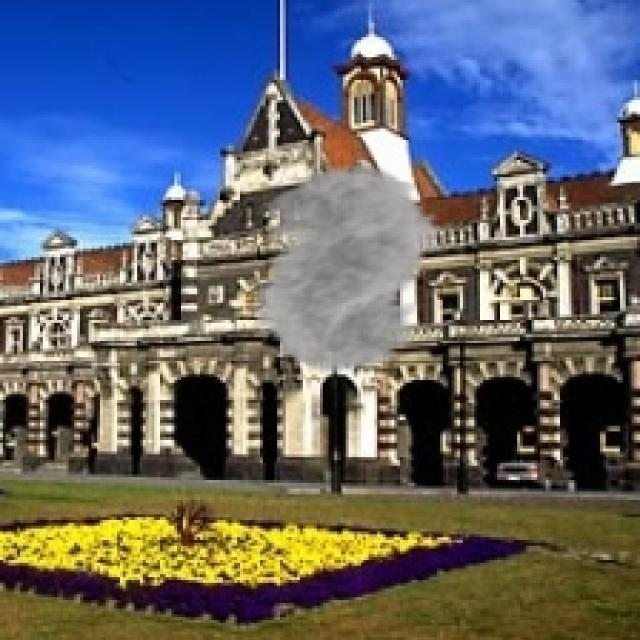Smoke: (225, 163, 460, 374)
